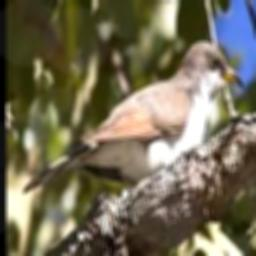Cuckoo: (24, 40, 244, 195)
